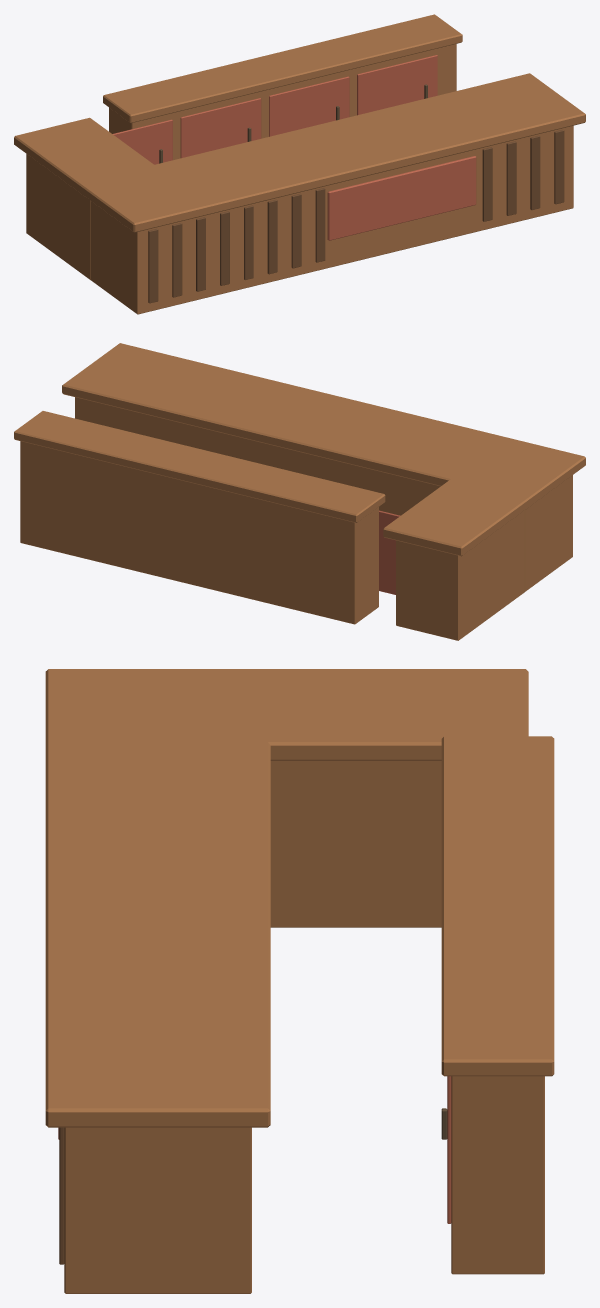
The model's file is terra-counter.glb.
The picture shows the model from 3 angles, top to bottom: view 1: azimuth 30°, elevation 25°; view 2: azimuth 150°, elevation 25°; view 3: azimuth 270°, elevation 25°; orthographic projection. The views are drawn at different scales.
Parts seen in each view (by area): view 1: terra__bar; view 2: terra__bar; view 3: terra__bar.
Boxes of the visible parts, bbox=[...] form: terra__bar: bbox=[14, 14, 585, 314]; terra__bar: bbox=[14, 343, 585, 640]; terra__bar: bbox=[45, 669, 554, 1293].
Size of the model in its own units: 4.46 by 1.03 by 2.17.
